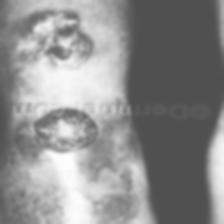Potentially Malignant Skin Tumors: (7, 120, 137, 224), (15, 9, 96, 77)
